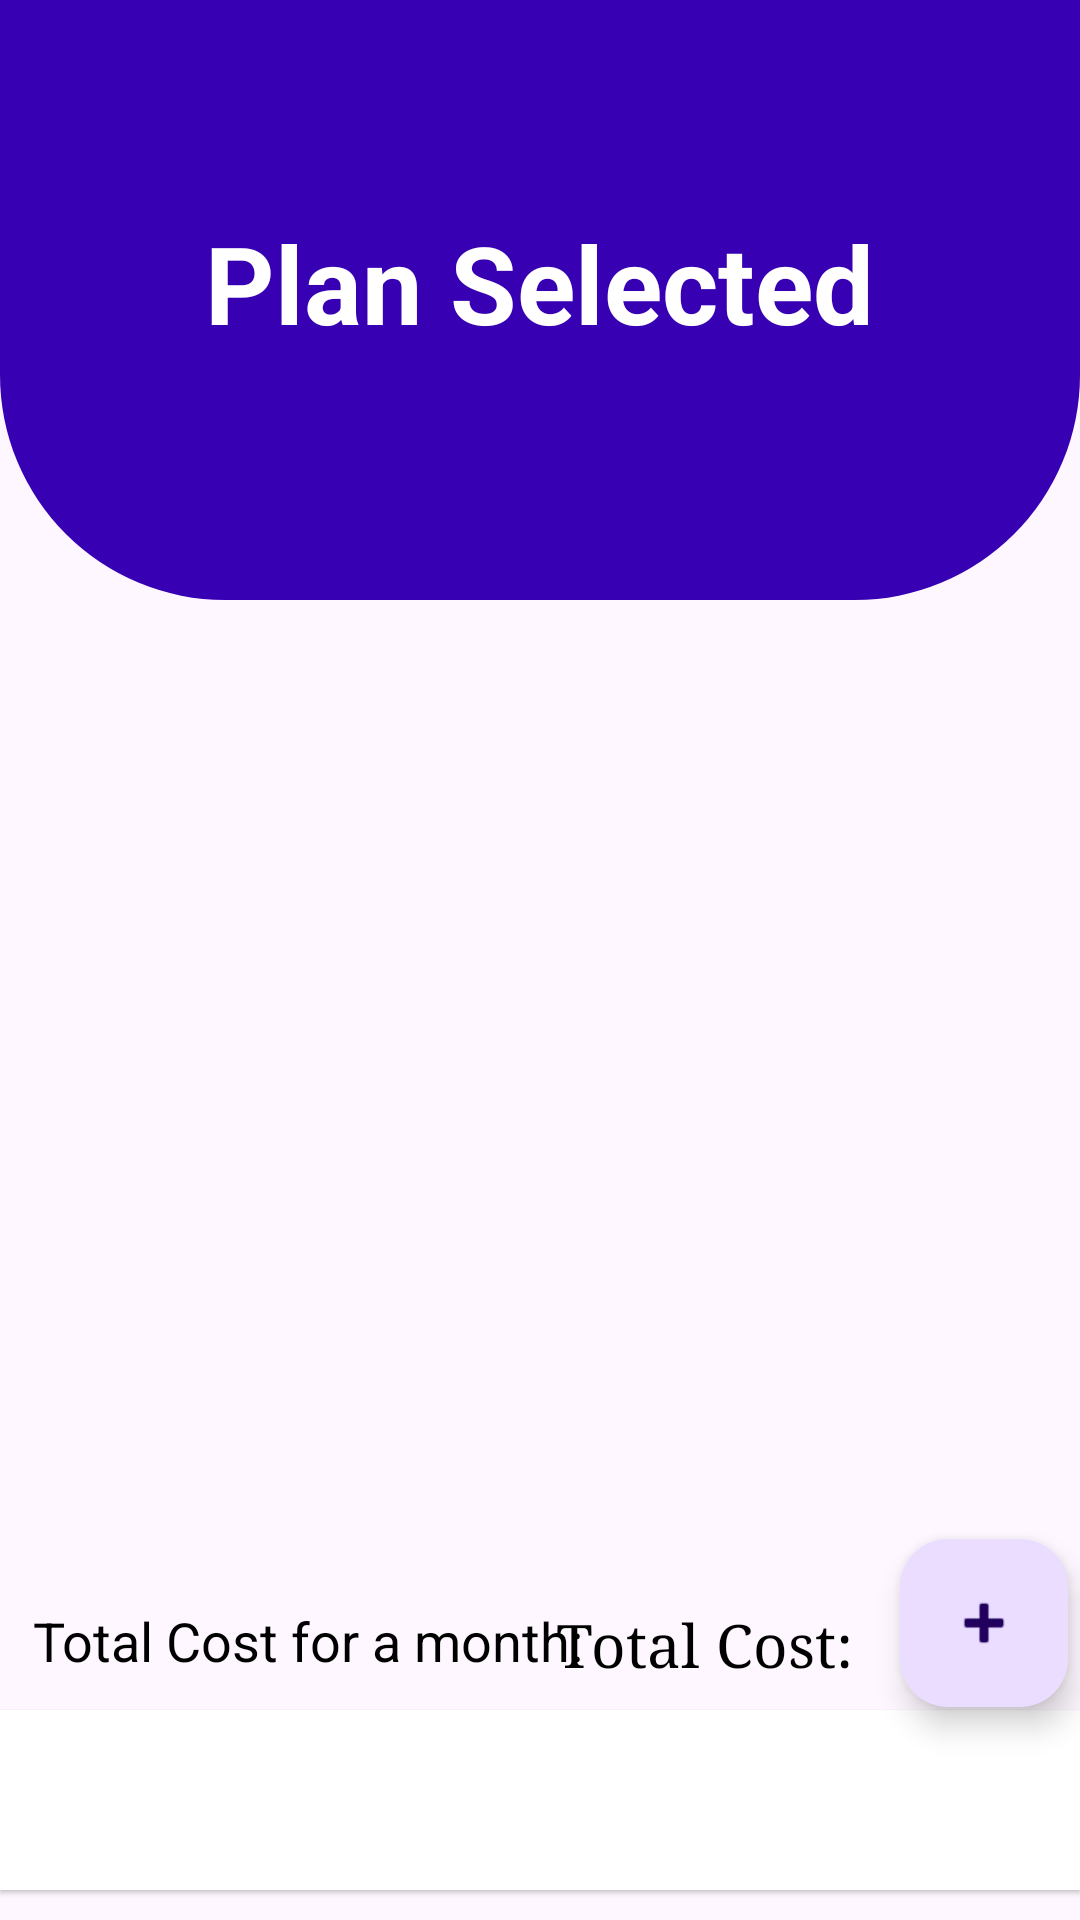

Icons on this 1080*1920 Android screen, each with its box as region(x1, y1, x2, y2):
add: region(900, 1539, 1068, 1707)
